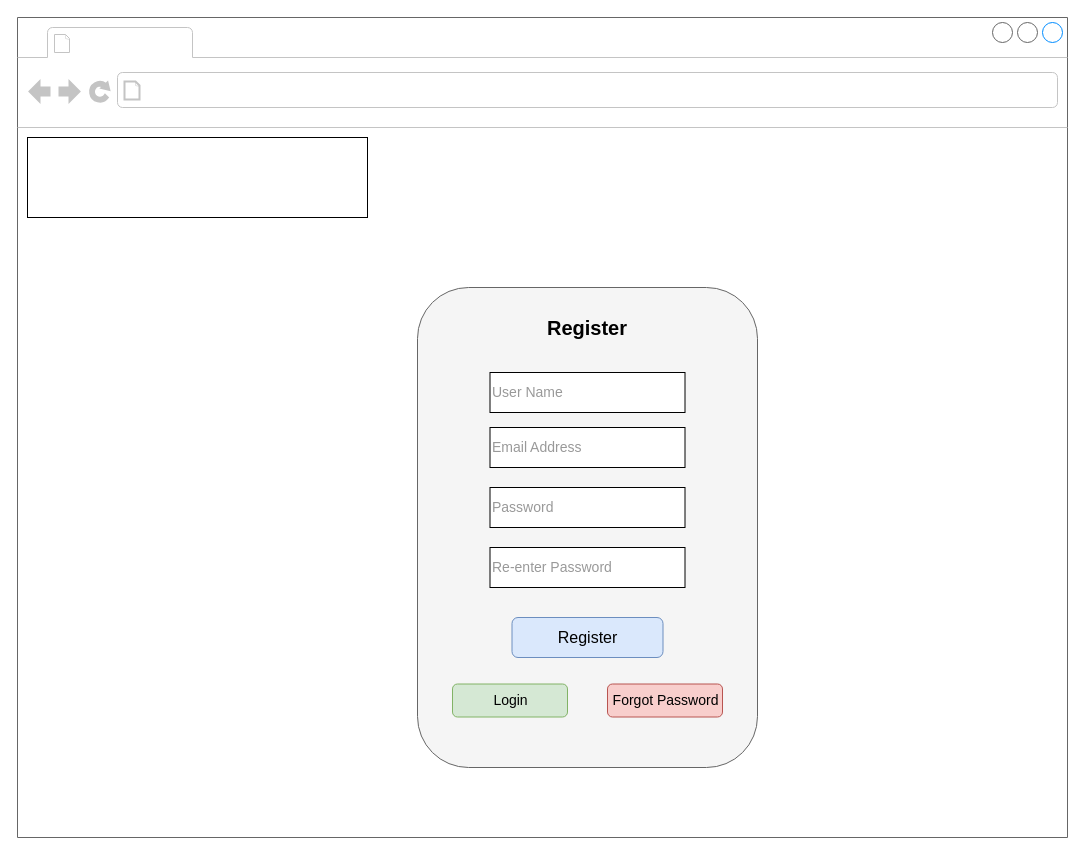
The diagram is 1085 pixels wide and 855 high, and some of its shapes have lost their labels. The centre of each missing label's shape, as x and y in pixels:
https://www.default.com: (x=272, y=90)
Logo Area: (x=197, y=177)
Page 1: (x=132, y=42)
